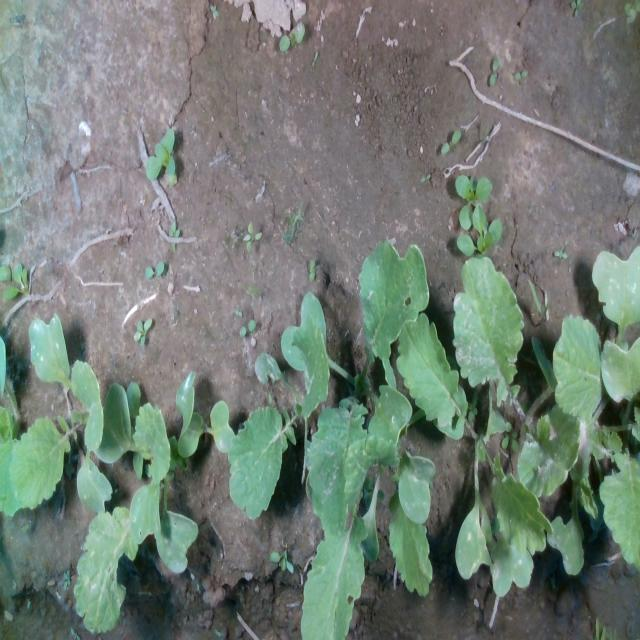weed: (485, 52, 501, 92), (133, 316, 154, 346), (242, 216, 258, 252), (439, 130, 457, 154), (142, 260, 168, 276), (305, 254, 315, 283), (240, 319, 256, 337), (422, 168, 430, 184)
